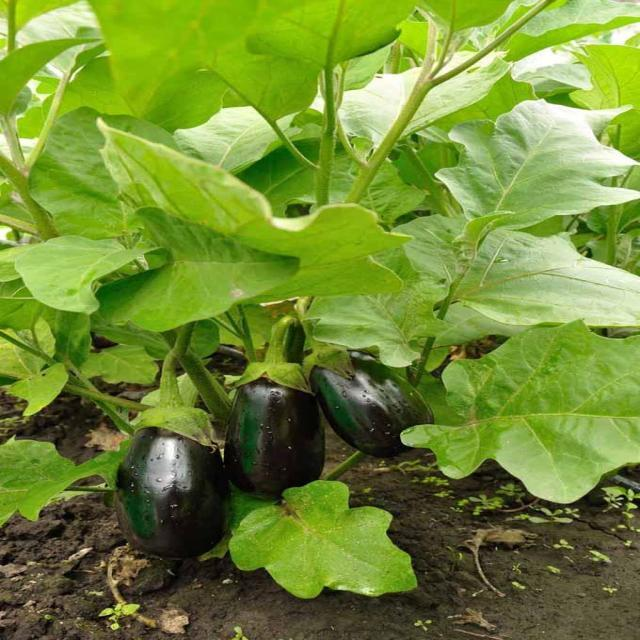eggplant: (114, 321, 231, 556), (294, 302, 432, 456), (224, 314, 325, 498)
